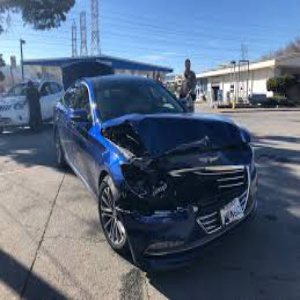bonnet: (128, 107, 254, 149)
bumper: (114, 199, 196, 274)
